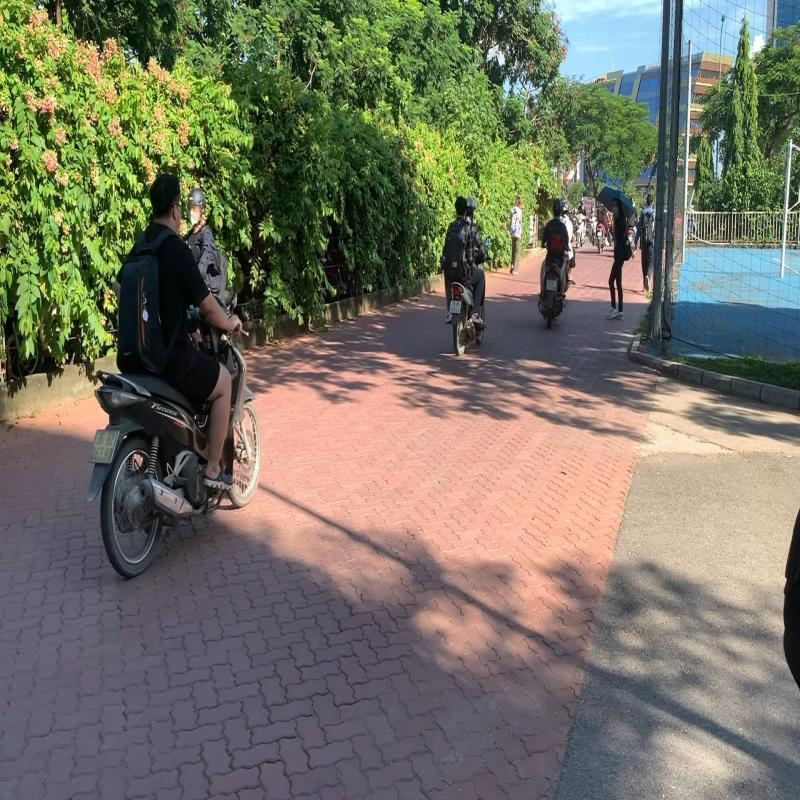nohelmet: (144, 168, 186, 234), (454, 194, 469, 220)
